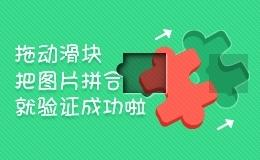target: (100, 32, 144, 74)
